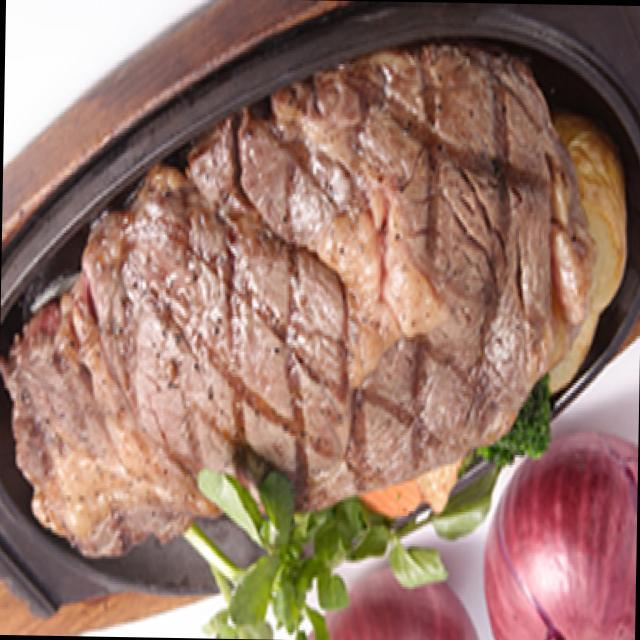Beef Steak: (1, 76, 618, 486)
